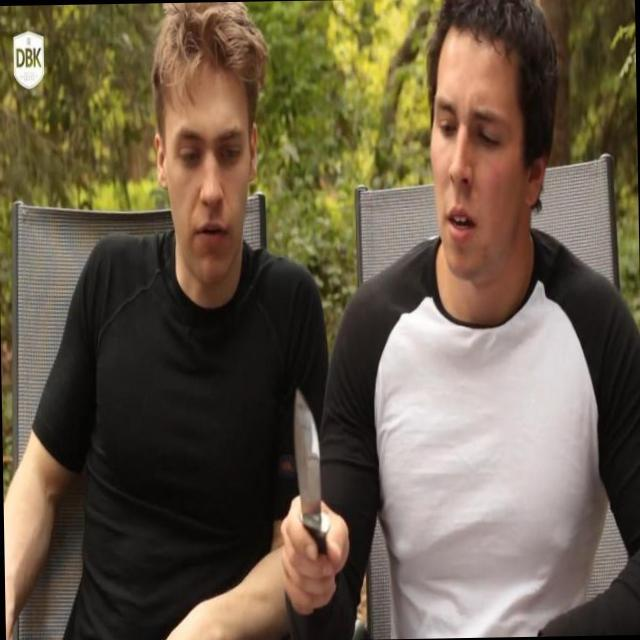Knife: (284, 374, 349, 574)
